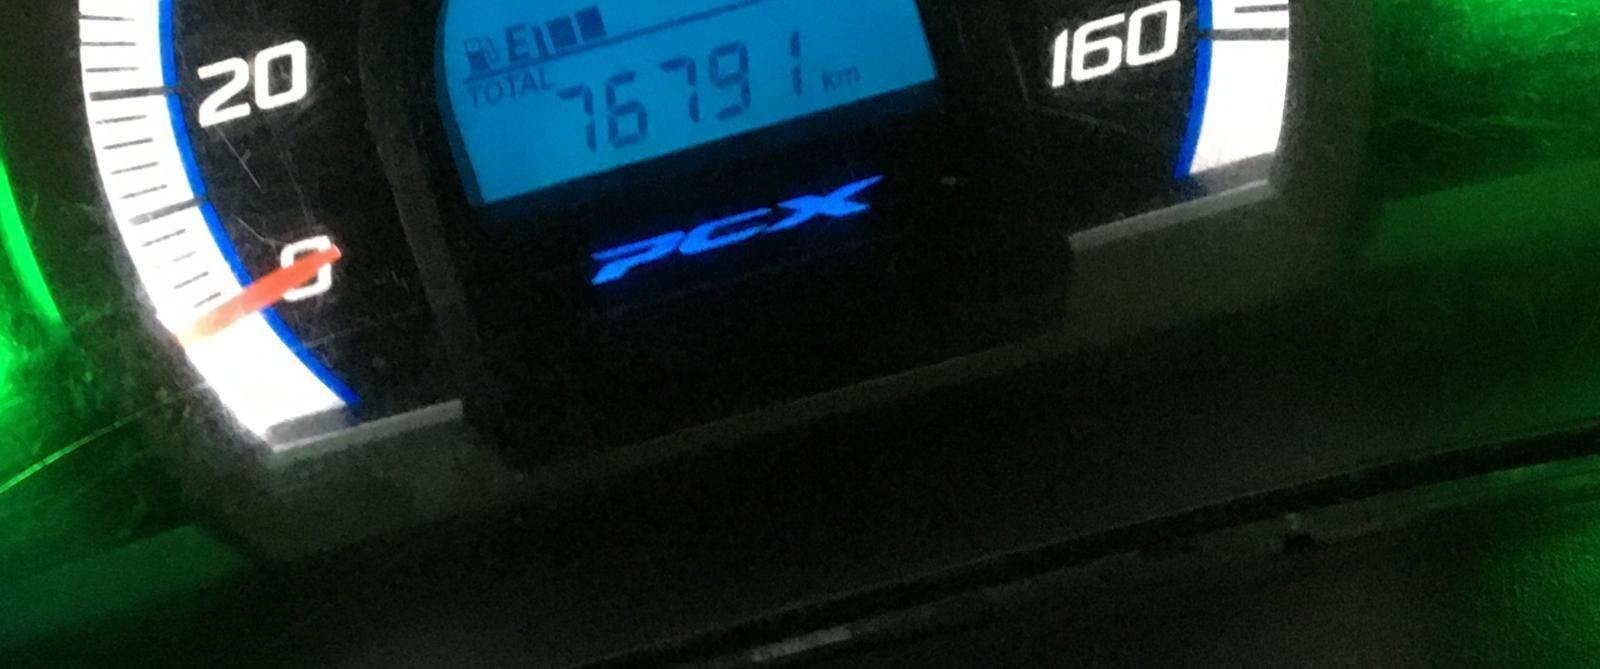1: (779, 25, 808, 99)
6: (605, 67, 651, 153)
7: (657, 53, 705, 127), (558, 82, 601, 154)
9: (709, 40, 755, 123)
X: (503, 22, 533, 62), (837, 65, 864, 86), (484, 78, 503, 103), (505, 71, 522, 99), (465, 81, 483, 107), (520, 68, 540, 92), (538, 66, 555, 91), (822, 69, 838, 92)
odometer: (424, 0, 942, 213)
